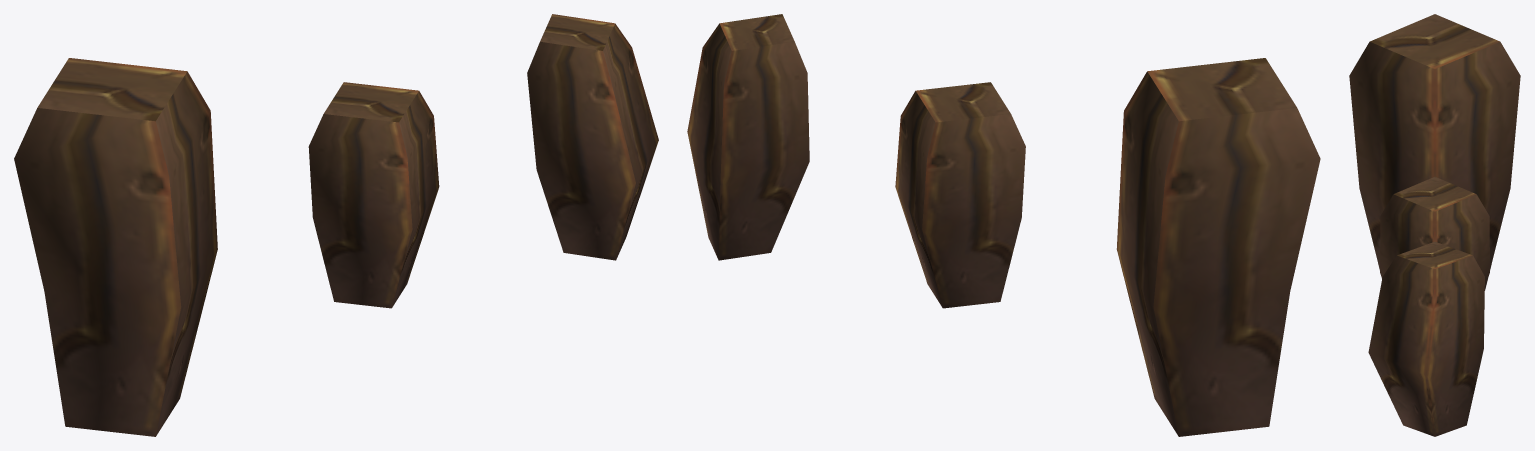
File: wujian01.FBX
3 renders of one model, left to right at view 1: azimuth 30°, elevation 25°; view 2: azimuth 150°, elevation 25°; view 3: azimuth 270°, elevation 25°, orthographic. The views are drawn at different scales.
Visible parts, largest first — view 1: wujian01; view 2: wujian01; view 3: wujian01.
Boxes of the visible parts, <box> form: wujian01: <box>14,14,658,436</box>; wujian01: <box>687,14,1320,436</box>; wujian01: <box>1349,14,1520,436</box>.
Size of the model in its own units: 47.24 by 14.54 by 23.
